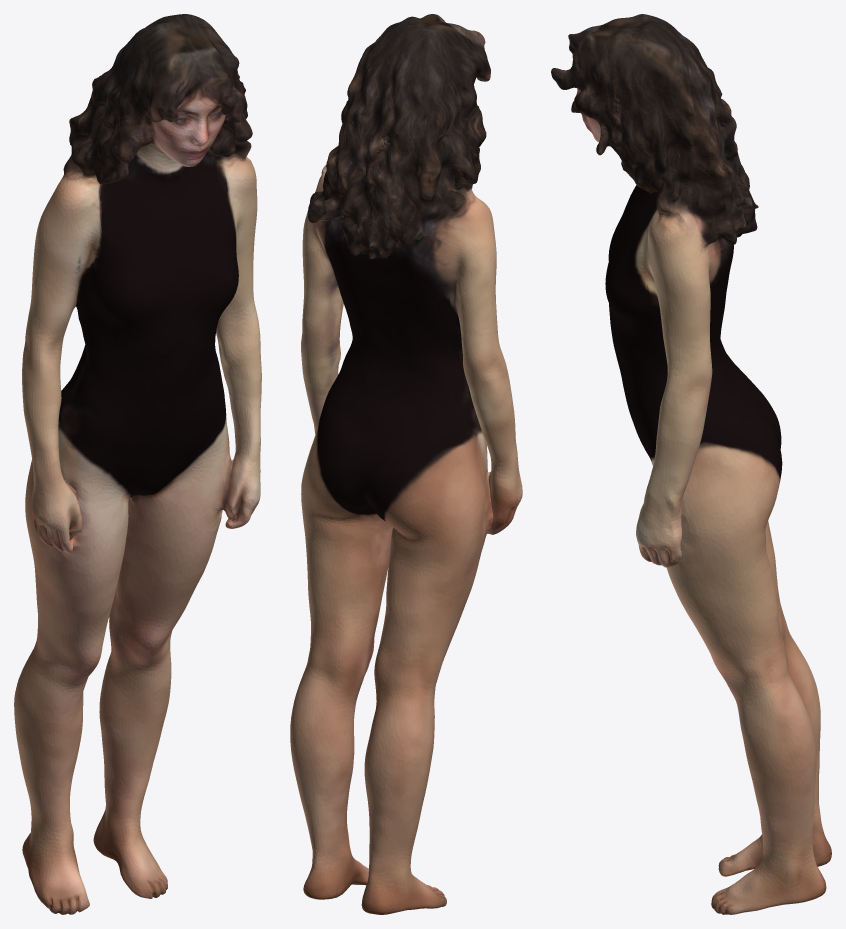
The model's file is kat.obj.
3 renders of one model, left to right at view 1: azimuth 30°, elevation 25°; view 2: azimuth 150°, elevation 25°; view 3: azimuth 270°, elevation 25°, orthographic. The views are drawn at different scales.
Parts seen in each view (by area): view 1: Group55372; view 2: Group55372; view 3: Group55372.
Part boxes in pixels (x1,y1,x2,y2): Group55372: (14,14,261,914); Group55372: (290,14,522,914); Group55372: (551,14,831,914).
Size of the model in its own units: 45.09 by 172 by 49.62.
1 material, 1 textured.
